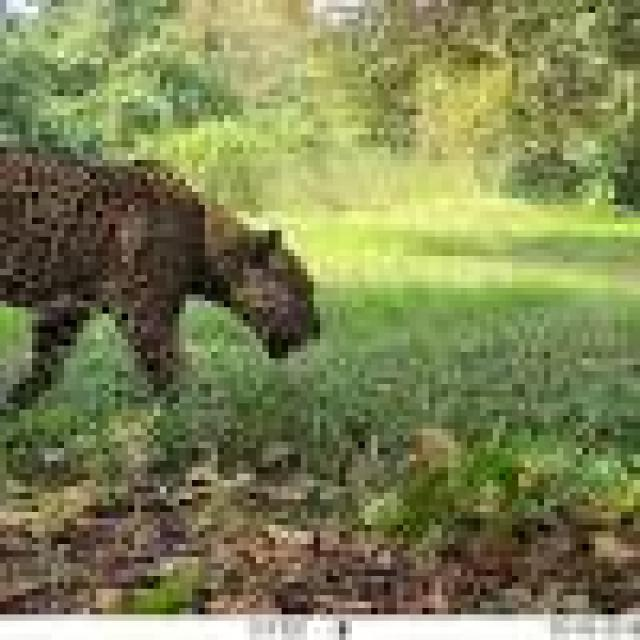Jaguar: (0, 128, 320, 397)
